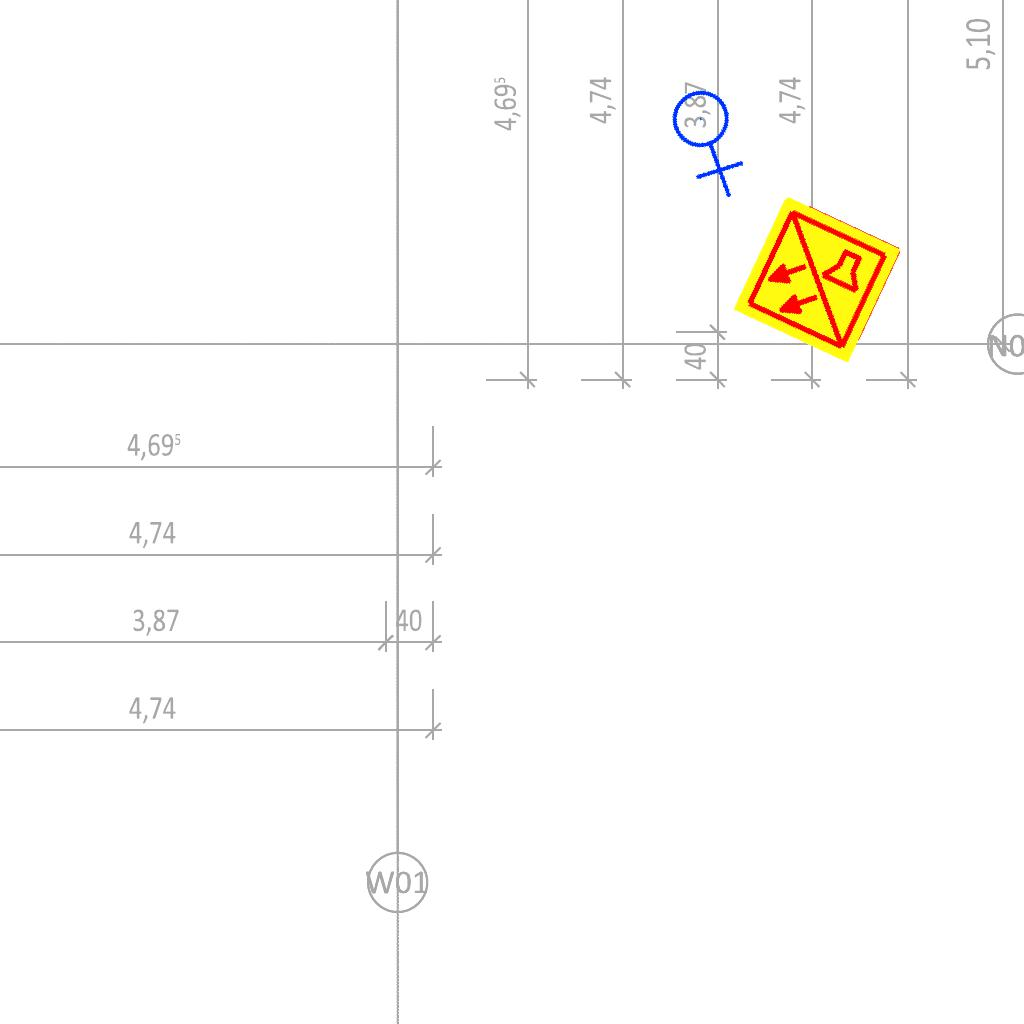Elektroanschluss_allgemein_230V_Geraeteanschlussdose_230V: (648, 72, 775, 202)
OKW_Multisensormelder_(Kombination_optischer_Rauch-Kahlenmonoxid_Waerme-Melder): (729, 191, 905, 367)
